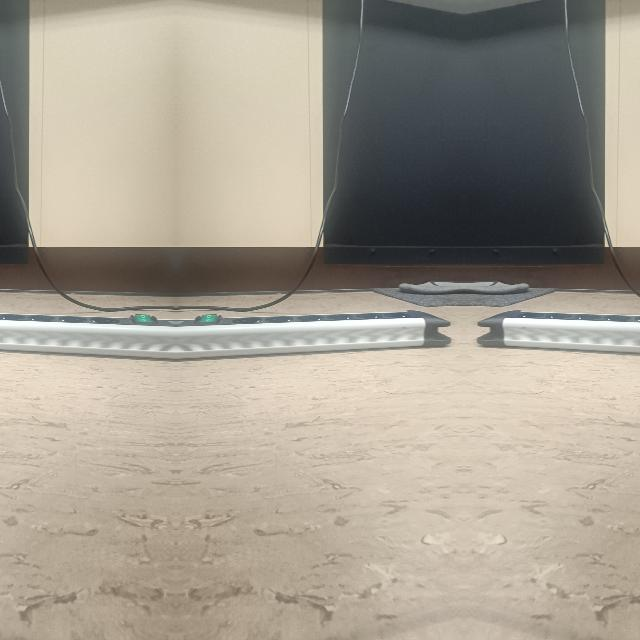obstacle: (175, 311, 451, 359), (0, 311, 175, 359), (476, 311, 640, 359)
